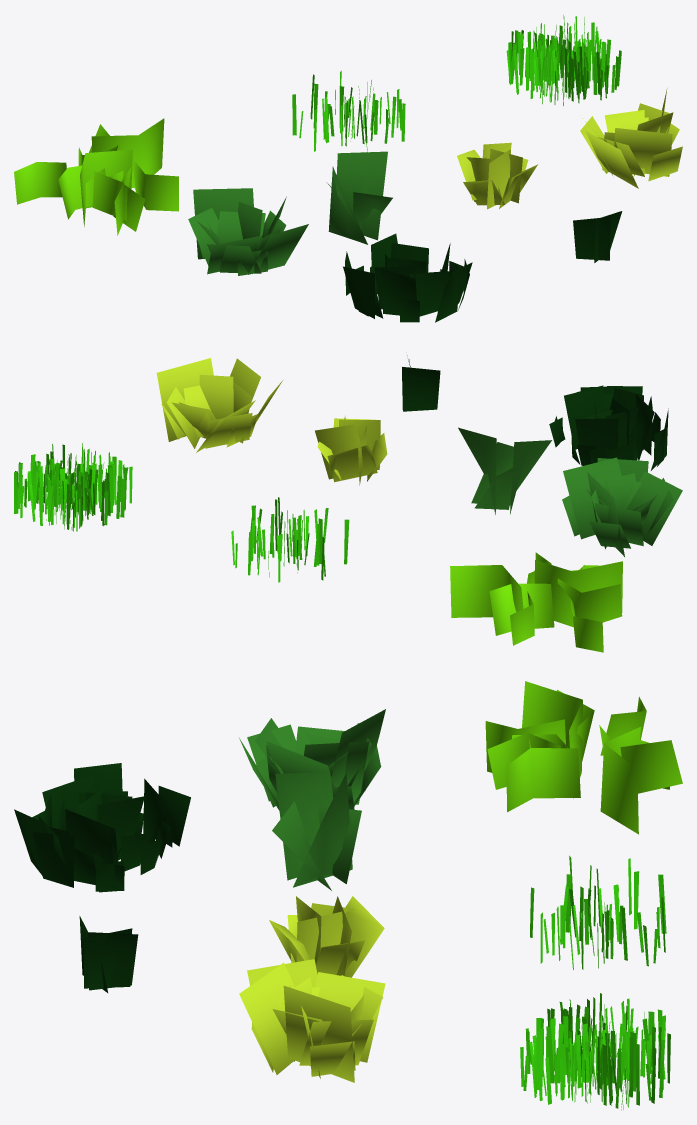
The model's file is Grass_For_Games.fbx.
3 views of the same model, one above another, from view 1: azimuth 30°, elevation 25°; view 2: azimuth 150°, elevation 25°; view 3: azimuth 270°, elevation 25° (orthographic). The views are drawn at different scales.
Visible parts, largest first — view 1: Wheat_Grass_LowPoly, Grass_B_Low_Dense, Grass_jumbled_Low_Spread, Wheat_Grass_High_Dense, Grass_jumbled_Low_Dense_1, Grass_jumbled_Low_Spread_1, Grass_Jumbled_Low_Dense, Wheat_Grass_High_Spread, Grass_B_Low_Small; view 2: Wheat_Grass_LowPoly, Grass_jumbled_Low_Spread, Grass_jumbled_Low_Dense_1, Grass_B_Low_Dense, Wheat_Grass_High_Dense, Grass_jumbled_Low_Spread_1, Grass_Jumbled_Low_Dense, Wheat_Grass_High_Spread, Grass_B_Low_Small; view 3: Wheat_Grass_LowPoly, Grass_B_Low_Dense, Grass_jumbled_Low_Dense_1, Wheat_Grass_High_Dense, Grass_jumbled_Low_Spread_1, Grass_jumbled_Low_Spread, Grass_Jumbled_Low_Dense, Wheat_Grass_High_Spread, Grass_B_Low_Small.
Boxes of the visible parts, box(x1,y1,x2,y2) form: Wheat_Grass_LowPoly: box(14, 118, 178, 235); Grass_B_Low_Dense: box(343, 233, 472, 322); Grass_jumbled_Low_Spread: box(188, 188, 308, 275); Wheat_Grass_High_Dense: box(506, 15, 621, 105); Grass_jumbled_Low_Dense_1: box(580, 88, 682, 188); Grass_jumbled_Low_Spread_1: box(326, 151, 392, 244); Grass_Jumbled_Low_Dense: box(457, 142, 537, 209); Wheat_Grass_High_Spread: box(292, 70, 405, 152); Grass_B_Low_Small: box(573, 211, 622, 262); Wheat_Grass_LowPoly: box(450, 552, 622, 652); Grass_jumbled_Low_Spread: box(562, 457, 682, 556); Grass_jumbled_Low_Dense_1: box(156, 358, 282, 452); Grass_B_Low_Dense: box(549, 385, 668, 470); Wheat_Grass_High_Dense: box(14, 443, 132, 531); Grass_jumbled_Low_Spread_1: box(458, 427, 551, 514); Grass_Jumbled_Low_Dense: box(315, 415, 387, 485); Wheat_Grass_High_Spread: box(231, 497, 349, 582); Grass_B_Low_Small: box(402, 355, 440, 411); Wheat_Grass_LowPoly: box(485, 681, 682, 834); Grass_B_Low_Dense: box(14, 763, 190, 892); Grass_jumbled_Low_Dense_1: box(239, 959, 385, 1082); Wheat_Grass_High_Dense: box(520, 993, 670, 1110); Grass_jumbled_Low_Spread_1: box(272, 772, 361, 890); Grass_jumbled_Low_Spread: box(239, 709, 385, 810); Grass_Jumbled_Low_Dense: box(269, 896, 384, 977); Wheat_Grass_High_Spread: box(530, 855, 666, 969); Grass_B_Low_Small: box(79, 916, 138, 992).
Size of the model in its own units: 290 by 40.33 by 218.
